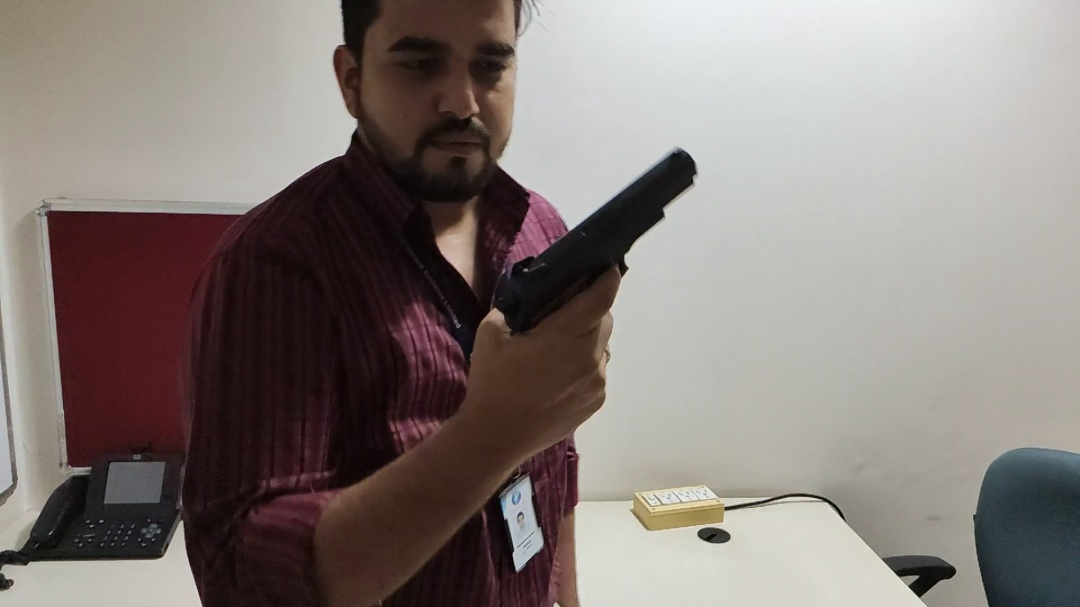gun: (496, 134, 699, 412)
